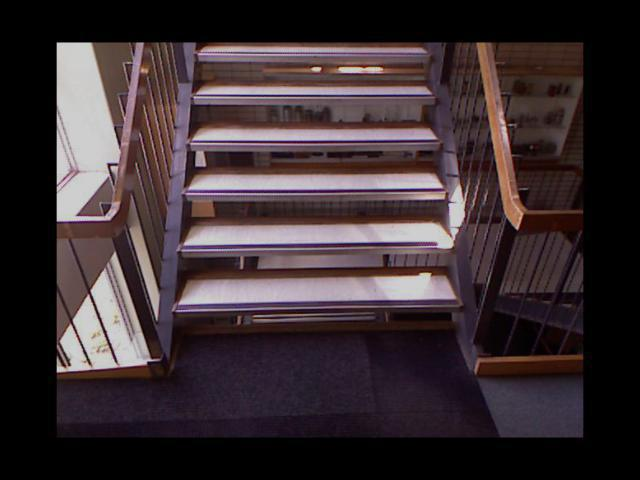Escaleras: (172, 43, 467, 336), (492, 284, 583, 356)
